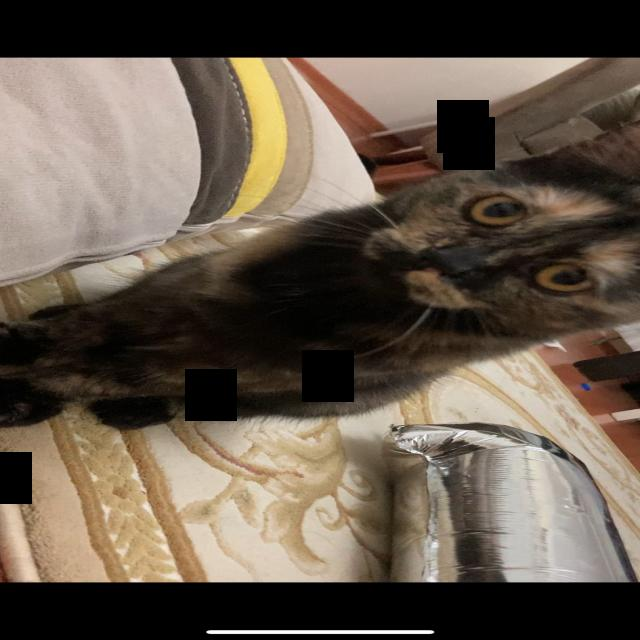authorized: (1, 129, 638, 431)
